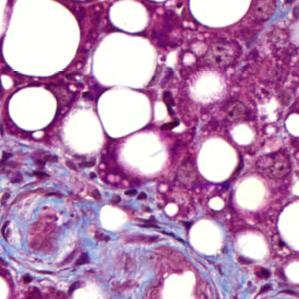steatosis: (89, 36, 159, 84), (97, 86, 151, 139), (10, 86, 58, 131), (190, 213, 224, 259), (199, 141, 238, 181), (105, 2, 152, 33)
